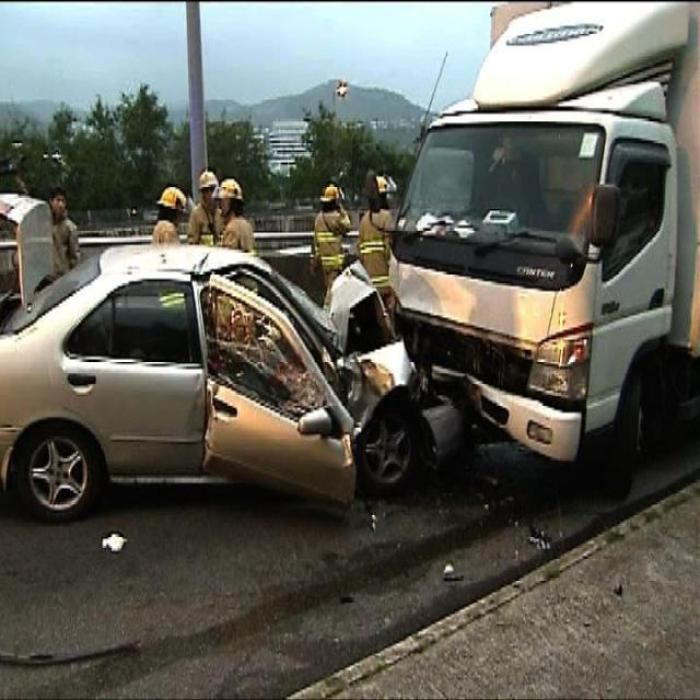Accident: (192, 226, 601, 522)
